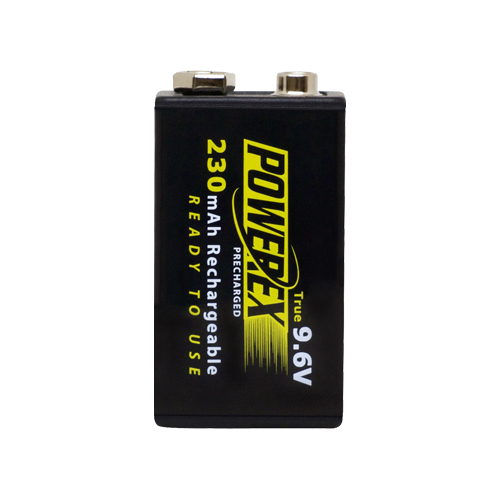9V: (143, 60, 356, 440)
